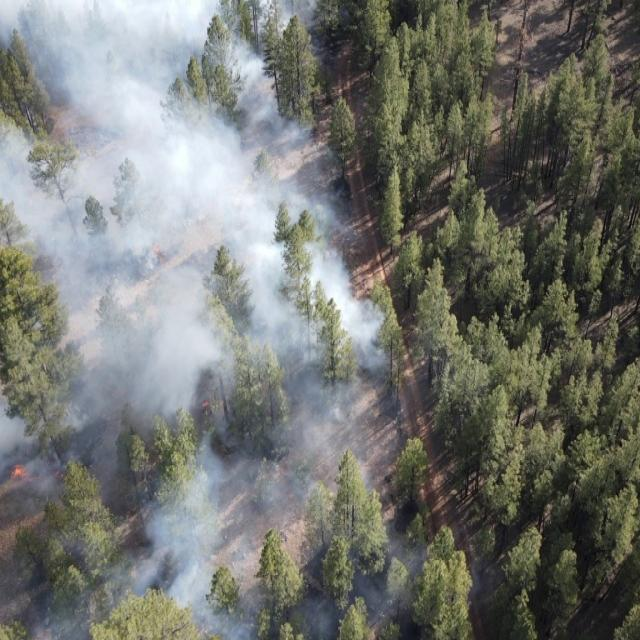fire: (7, 464, 69, 484), (150, 242, 172, 268), (198, 396, 213, 412), (324, 250, 332, 260)
smoke: (0, 0, 364, 640), (364, 297, 398, 640), (399, 549, 491, 640)
